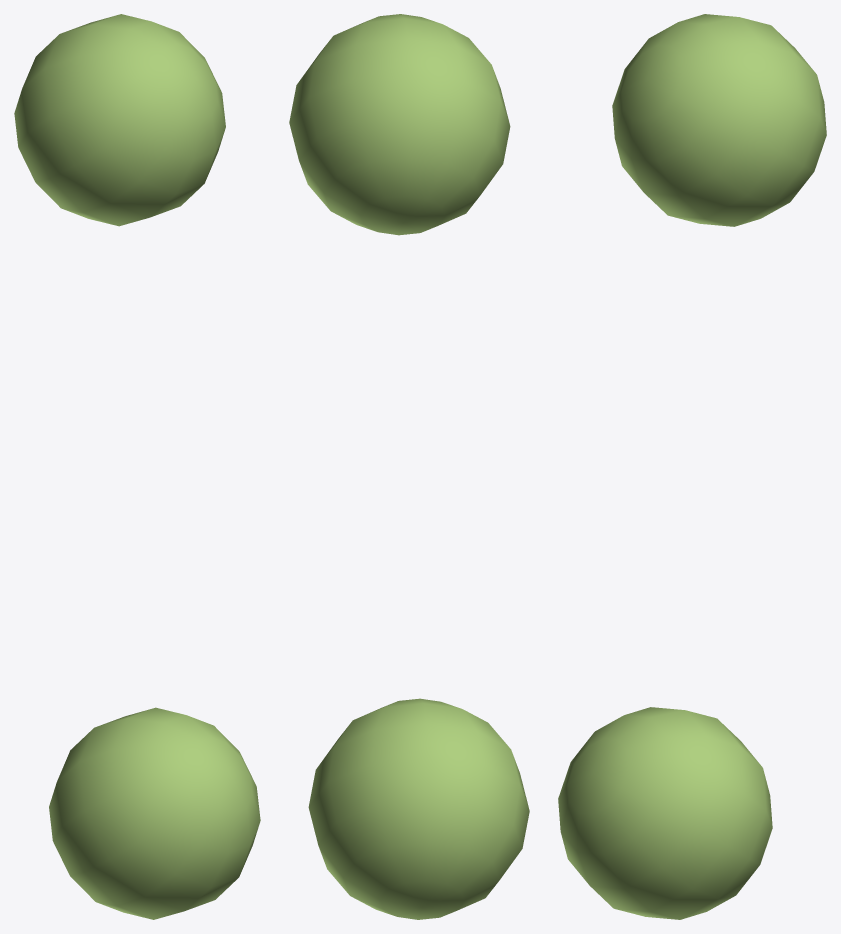
The model's file is retropharyngeal-nodes-r.glb.
3 renders of one model, left to right at view 1: azimuth 30°, elevation 25°; view 2: azimuth 150°, elevation 25°; view 3: azimuth 270°, elevation 25°, orthographic. The views are drawn at different scales.
Visible parts, largest first — view 1: Retropharyngeal nodes.r; view 2: Retropharyngeal nodes.r; view 3: Retropharyngeal nodes.r.
Part boxes in pixels (x1=…): Retropharyngeal nodes.r: x1=14, y1=14, x2=260, y2=919; Retropharyngeal nodes.r: x1=289, y1=14, x2=529, y2=919; Retropharyngeal nodes.r: x1=558, y1=14, x2=826, y2=919.
Bounding box in the file's own units: 0.0027 × 0.0117 × 0.00323.
